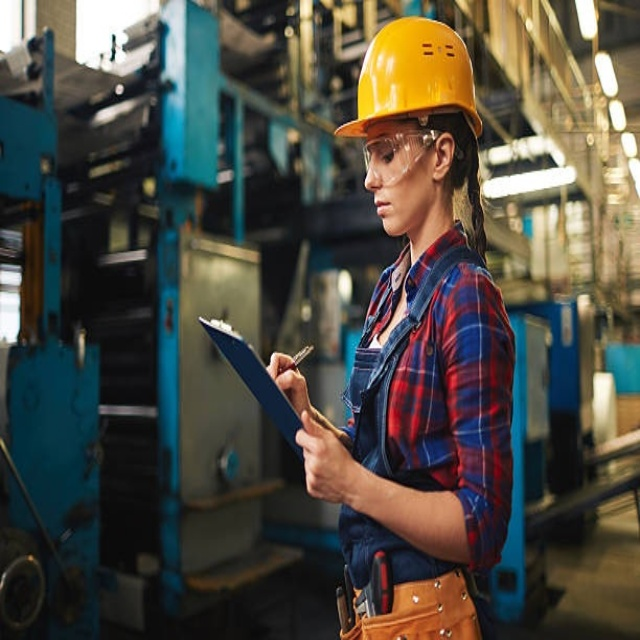Gafas: (362, 122, 437, 191)
Sin_guantes: (293, 406, 356, 503), (265, 347, 312, 413)
Sin_mascara: (371, 188, 403, 235)
